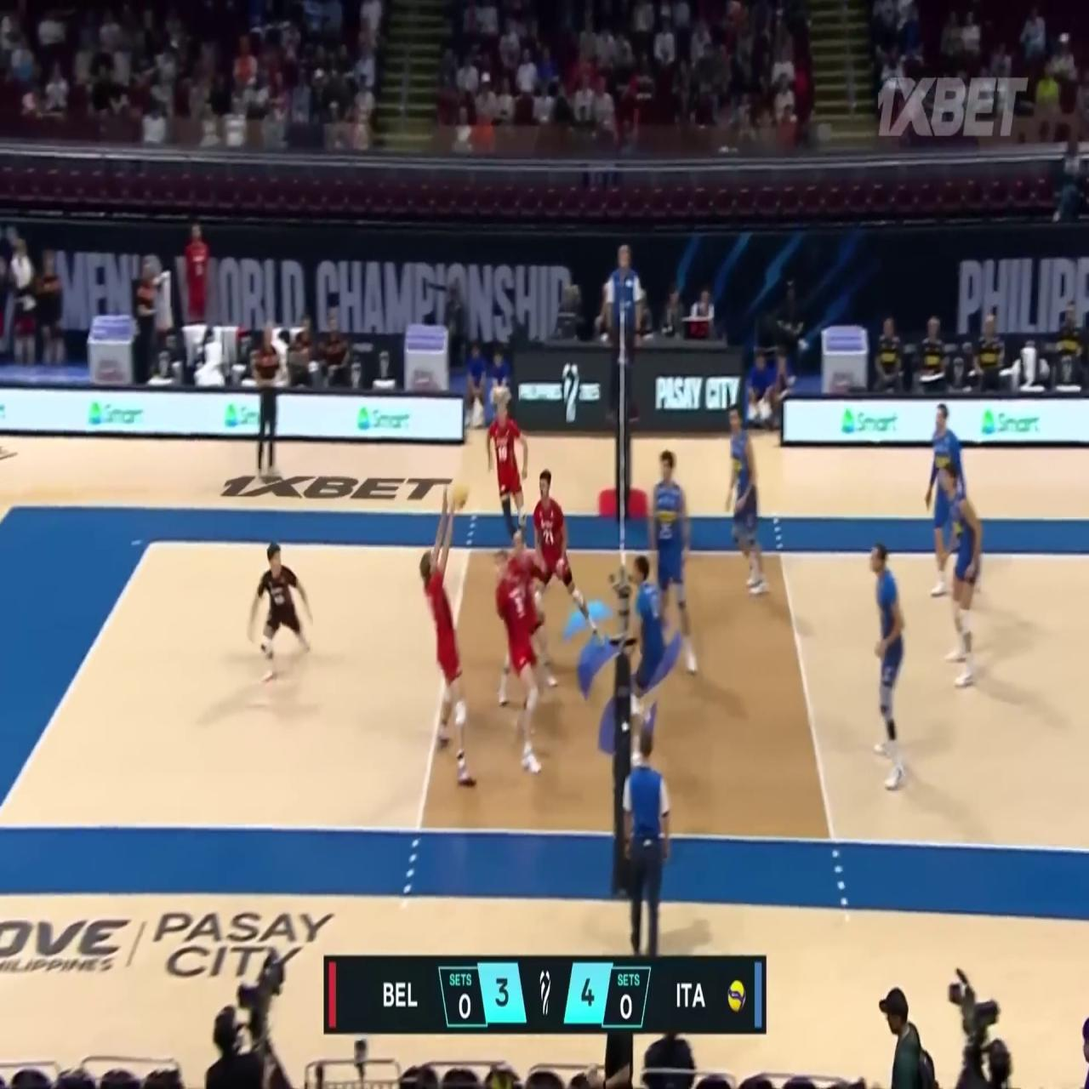ball: (451, 479, 468, 510)
